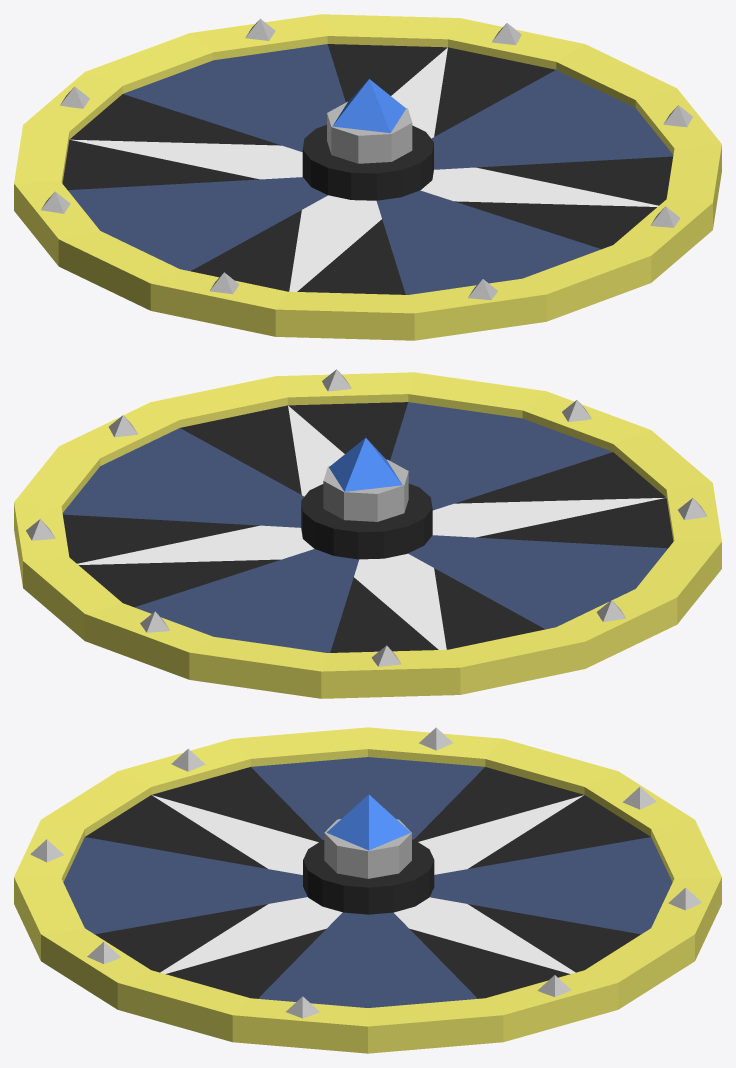
File: Shield_1_e_bl.fbx
The picture shows the model from 3 angles, top to bottom: view 1: azimuth 30°, elevation 25°; view 2: azimuth 150°, elevation 25°; view 3: azimuth 270°, elevation 25°; orthographic projection.
Parts seen in each view (by area): view 1: Circle.263, Circle.264, Circle.261, Circle.262, Circle.266, Circle.265, Cone.285; view 2: Circle.263, Circle.264, Circle.261, Circle.262, Circle.266, Circle.265, Cone.285; view 3: Circle.263, Circle.264, Circle.261, Circle.262, Circle.266, Circle.265, Cone.285.
Part boxes in pixels (x1=…): Circle.263: x1=14, y1=14, x2=721, y2=340; Circle.264: x1=68, y1=44, x2=673, y2=294; Circle.261: x1=62, y1=44, x2=672, y2=294; Circle.262: x1=70, y1=47, x2=658, y2=291; Circle.266: x1=302, y1=124, x2=433, y2=200; Circle.265: x1=327, y1=101, x2=412, y2=163; Cone.285: x1=332, y1=79, x2=405, y2=132; Circle.263: x1=14, y1=372, x2=721, y2=698; Circle.264: x1=62, y1=402, x2=667, y2=652; Circle.261: x1=63, y1=402, x2=673, y2=652; Circle.262: x1=77, y1=405, x2=665, y2=649; Circle.266: x1=301, y1=483, x2=432, y2=559; Circle.265: x1=323, y1=459, x2=408, y2=521; Cone.285: x1=329, y1=437, x2=402, y2=491; Circle.263: x1=14, y1=727, x2=721, y2=1053; Circle.264: x1=63, y1=757, x2=672, y2=1007; Circle.261: x1=85, y1=767, x2=650, y2=998; Circle.262: x1=152, y1=795, x2=583, y2=973; Circle.266: x1=303, y1=839, x2=434, y2=914; Circle.265: x1=324, y1=819, x2=411, y2=878; Cone.285: x1=327, y1=794, x2=410, y2=850.
Size of the model in its own units: 80.85 by 24.85 by 80.85.
